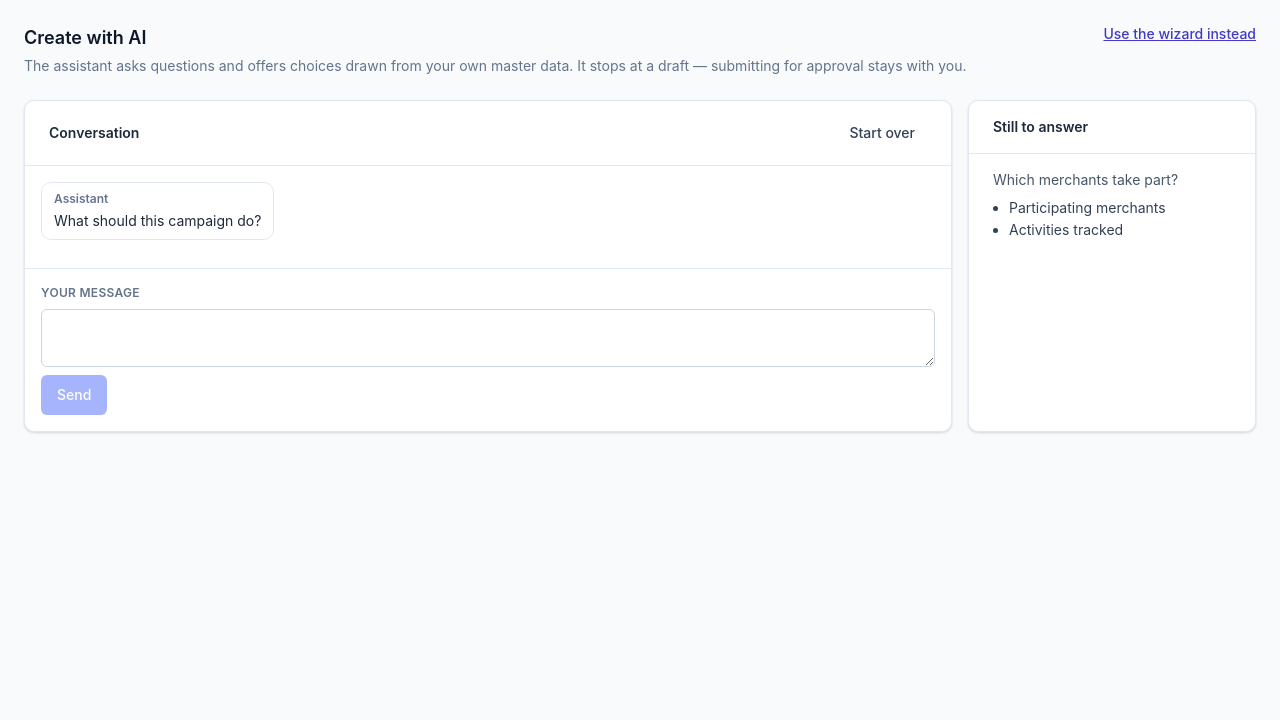
Scenario: TC-1 — a full conversation ending in a draft › TC-4 — choosing a rule sends its optionId and its version, and the choice is in the transcript
Expected: the text "What should this campaign do?" is shown, [54,211,261,231]
Type "Which rules can I use?" into the text box labelled "Your message" at (488, 338), box [41,309,935,367]
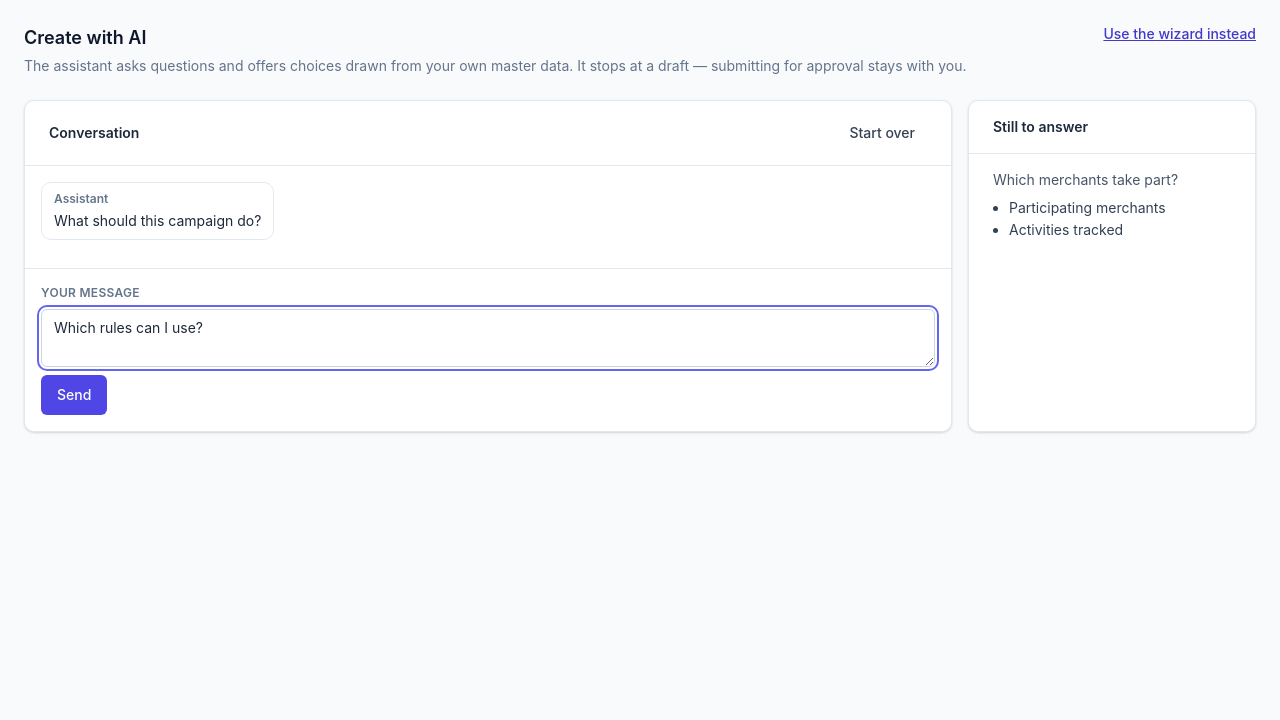
Click the button "Send" at (74, 395), box [41,375,107,415]
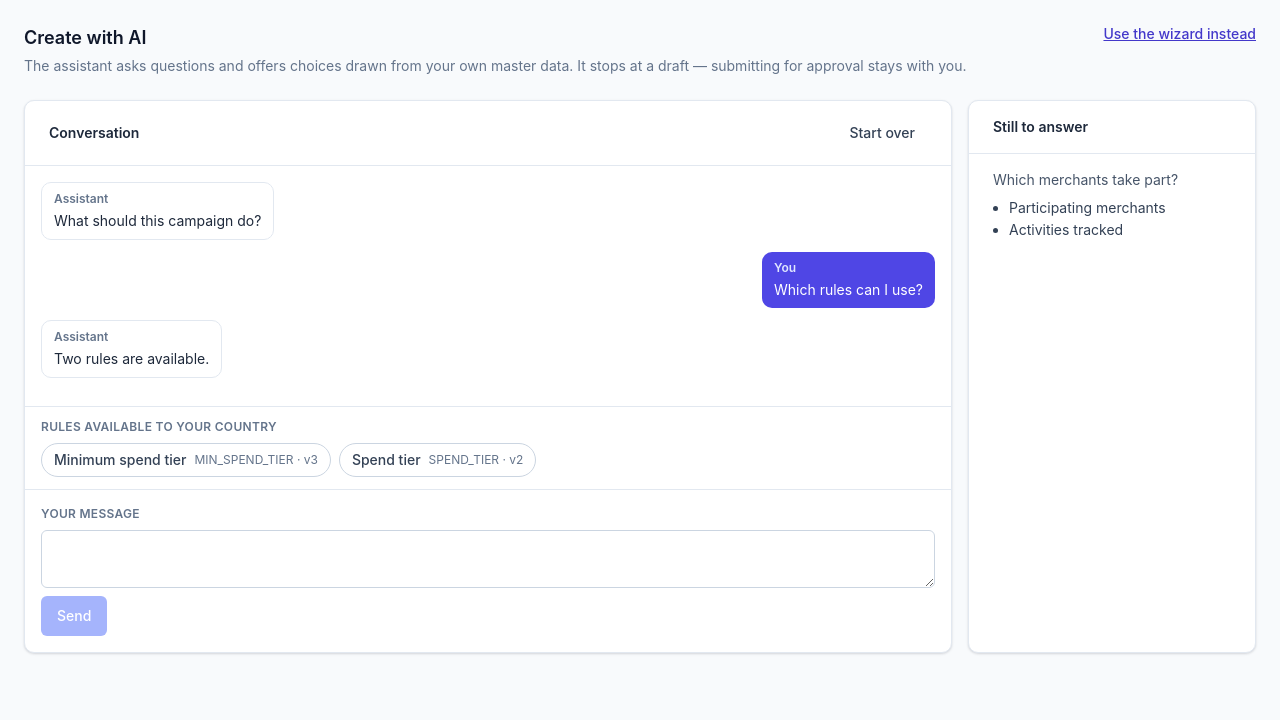
Click the button "Minimum spend tier MIN_SPEND_TIER · v3" at (186, 460), box [41,443,331,477]
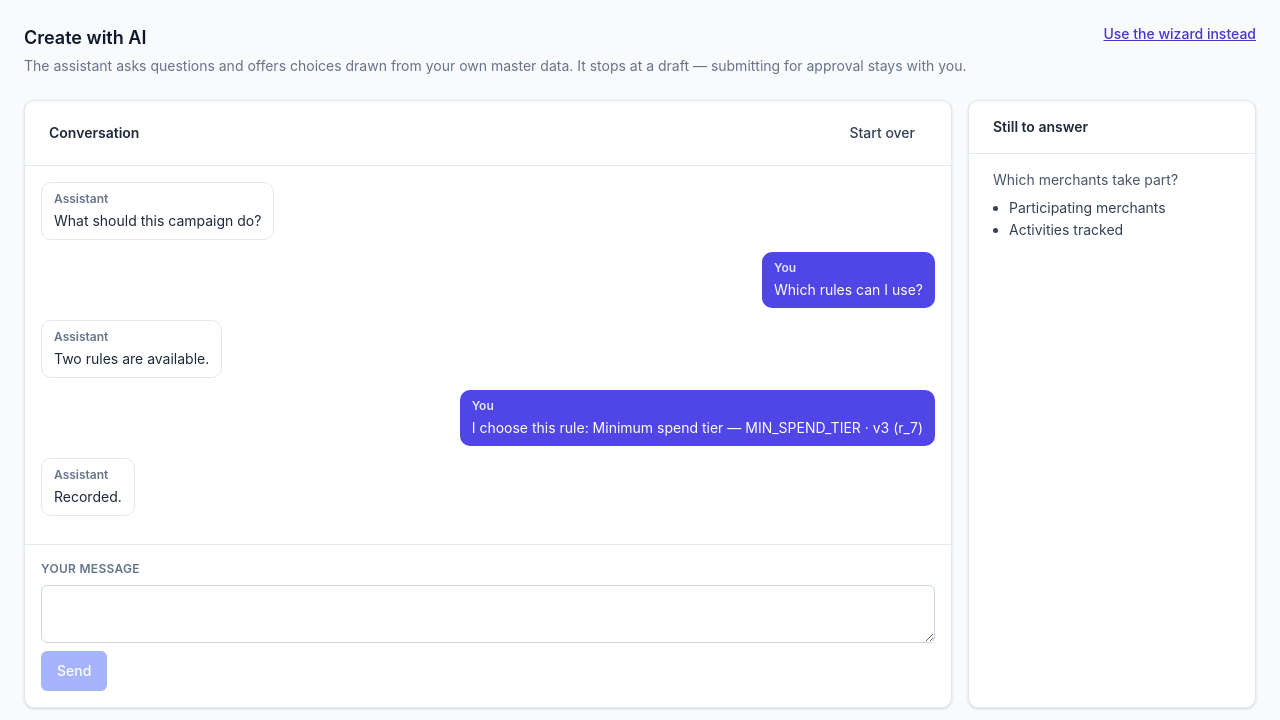
Expected: the text "I choose this rule: Minimum spend tier — MIN_SPEND_TIER · v3 (r_7)" is shown, [472,418,923,438]
